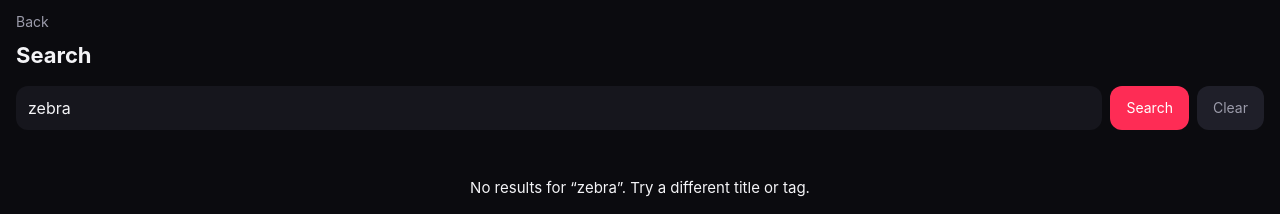
Test: the search box › clears back to the prompt, which is not the no-results state
Expected: the element with test id "empty-state" is shown, [470,178,810,196]
Click the button with test id "search-clear".
click(1230, 108)  # box [1197,86,1264,130]
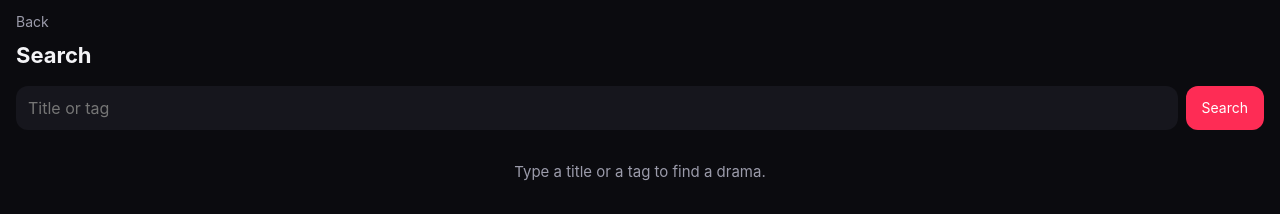
Result: the text "Type a title or a tag to find a drama." is shown at [514,162,766,180]
Result: the search field with test id "search-input" is empty at [16,86,1178,130]
